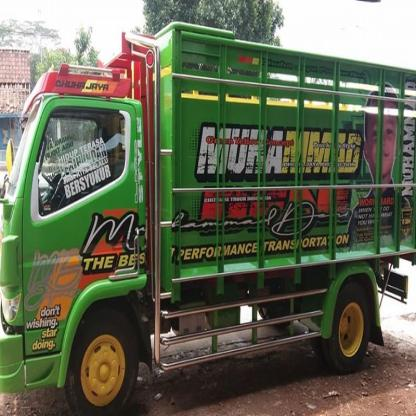truck: (1, 27, 416, 410)
